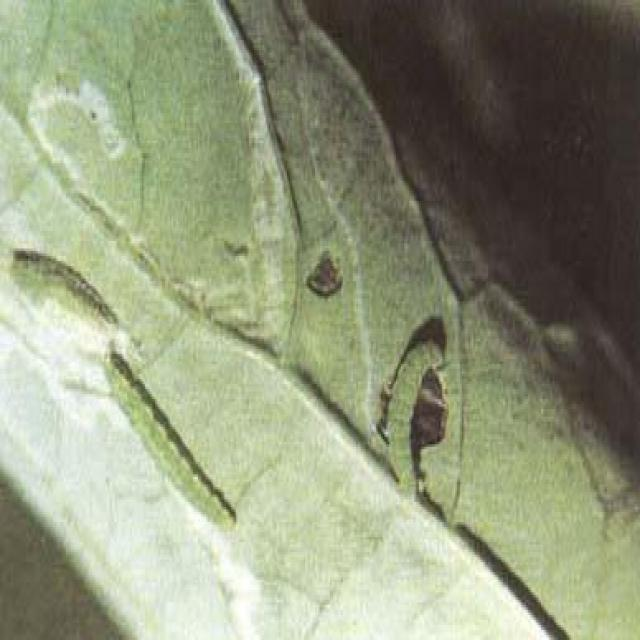armyworm: (85, 320, 253, 560), (382, 328, 451, 500)
